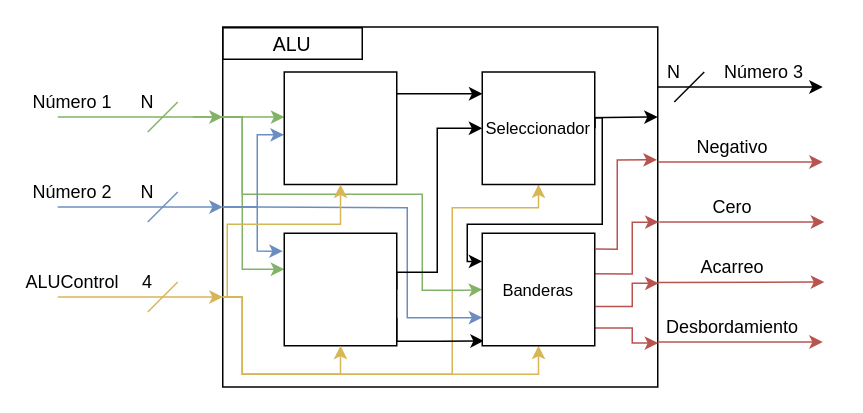
Image size: 863x413. Some labels were removed from this diagram. Each missing label, with the centre of its shape:
Unidad Aritmética: the point at 340,289
Unidad Lógica: the point at 340,127
